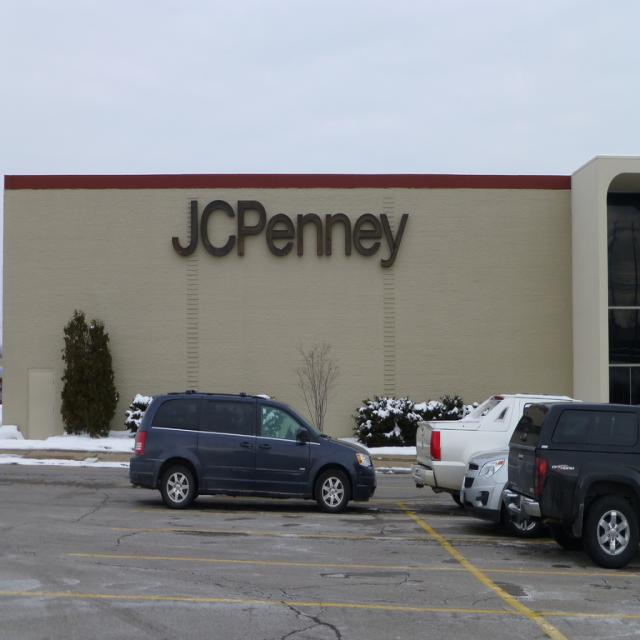car: (124, 389, 387, 518)
